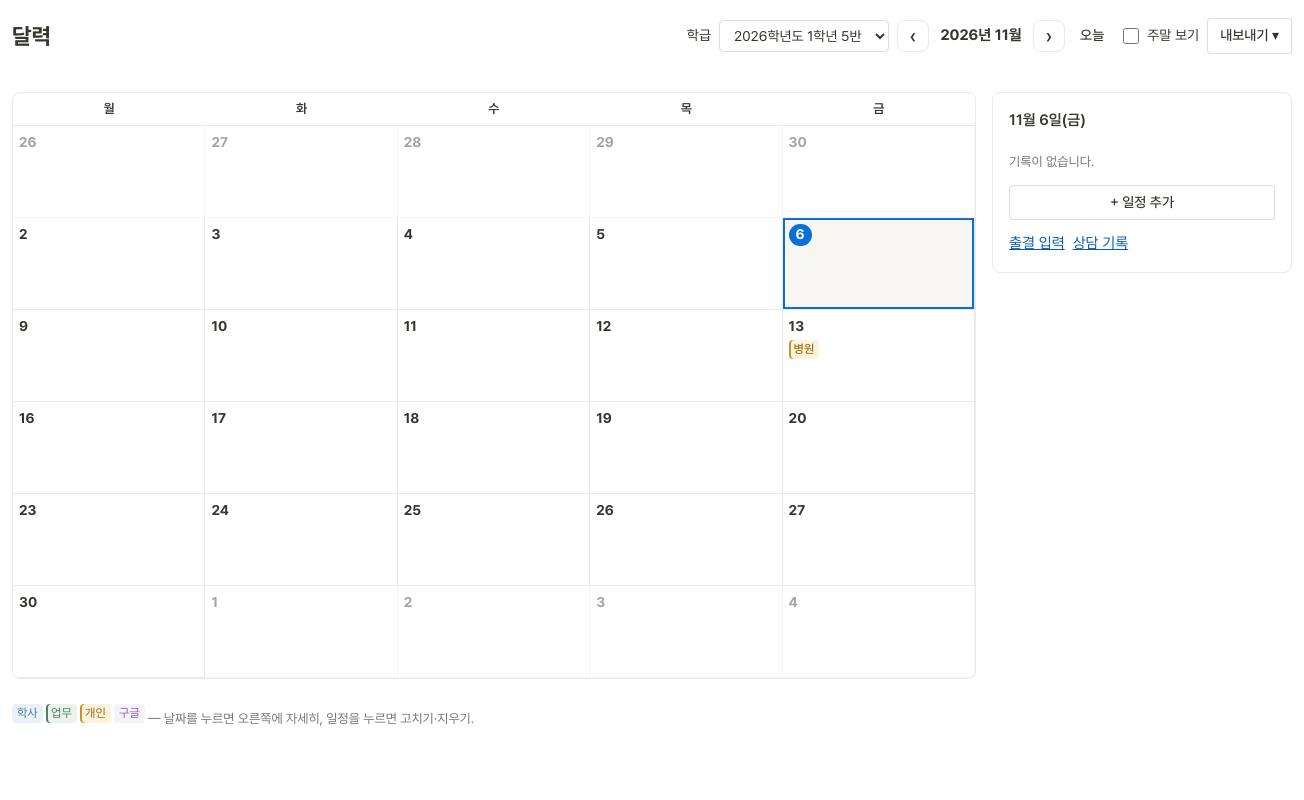
Test case: 달력에 내 일정(태그) 추가·지우기, 구글로 보낼 목록에도 들어감
Click the cell named "11월 12일" at [686, 356], box [590,310,783,402]
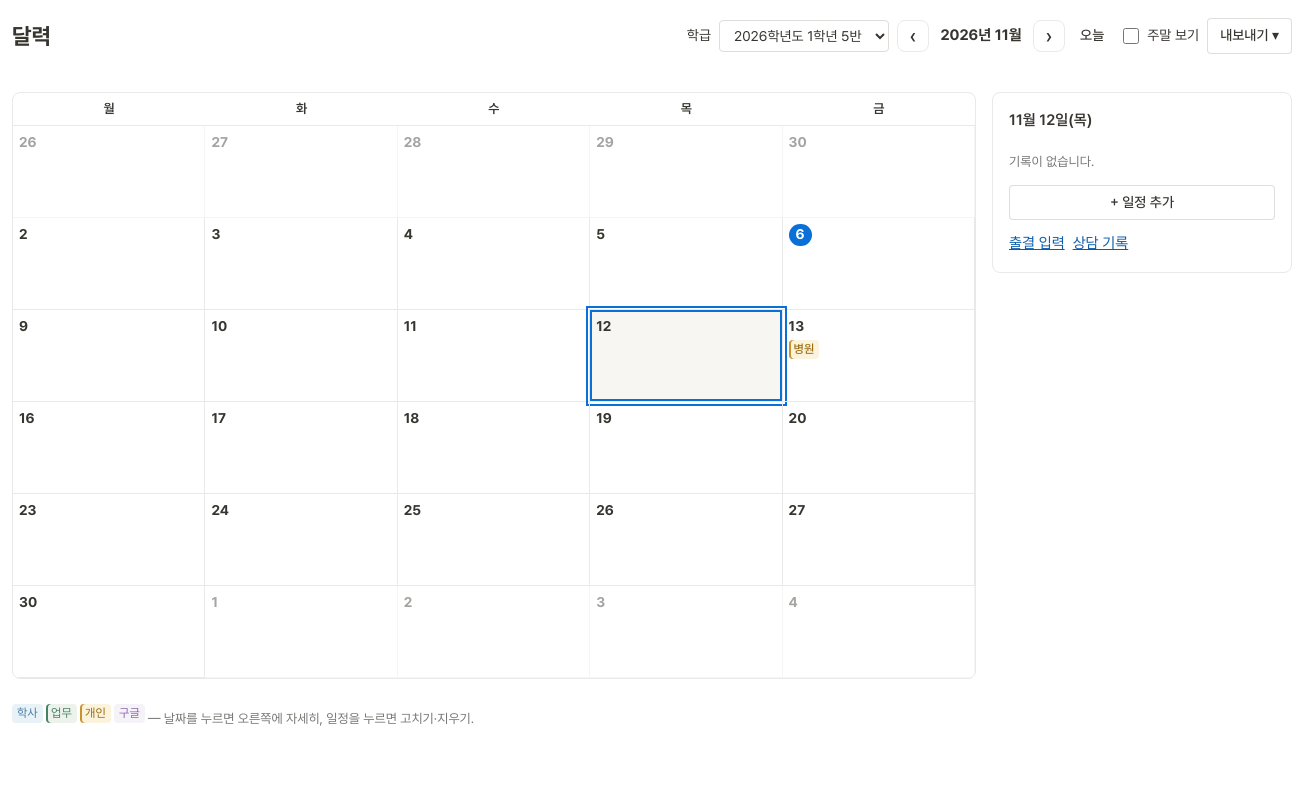
Click the button "+ 일정 추가" at [1142, 202], box [1009,185,1275,220]
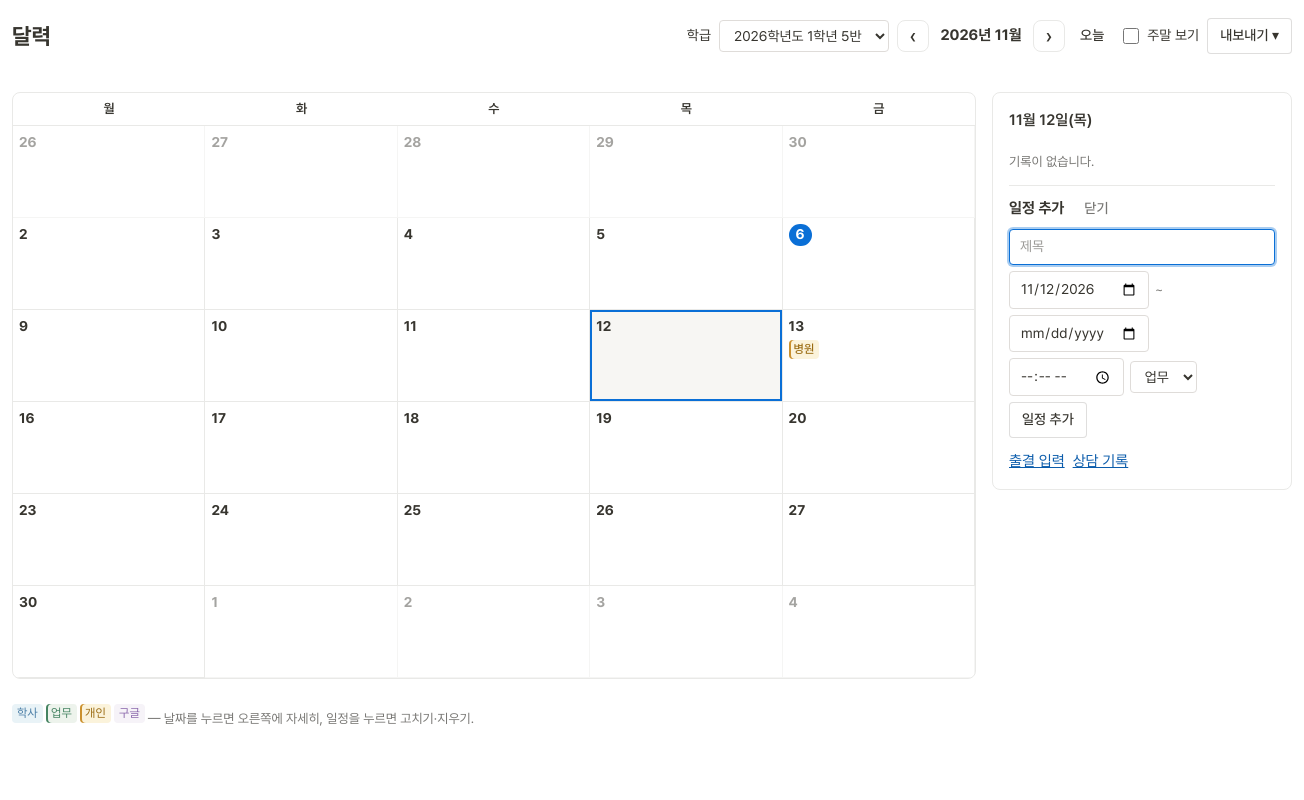
Type "학년 협의회" into the field named "일정 제목" at [1142, 247], box [1009,229,1275,265]
Type "15:30" into the time field named "시각" at [1066, 377], box [1009,358,1124,396]
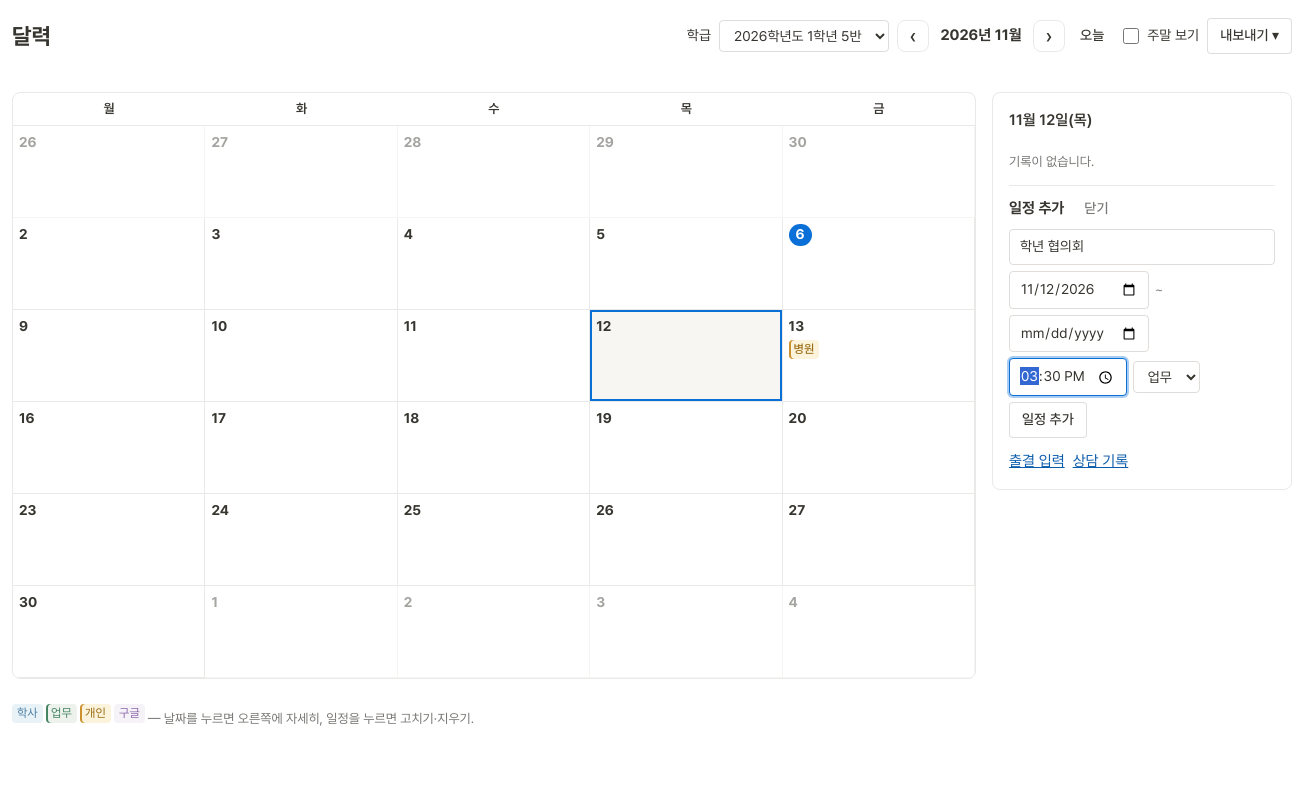
Select "업무" in the dropdown named "태그" at [1166, 377], box [1133,361,1200,393]
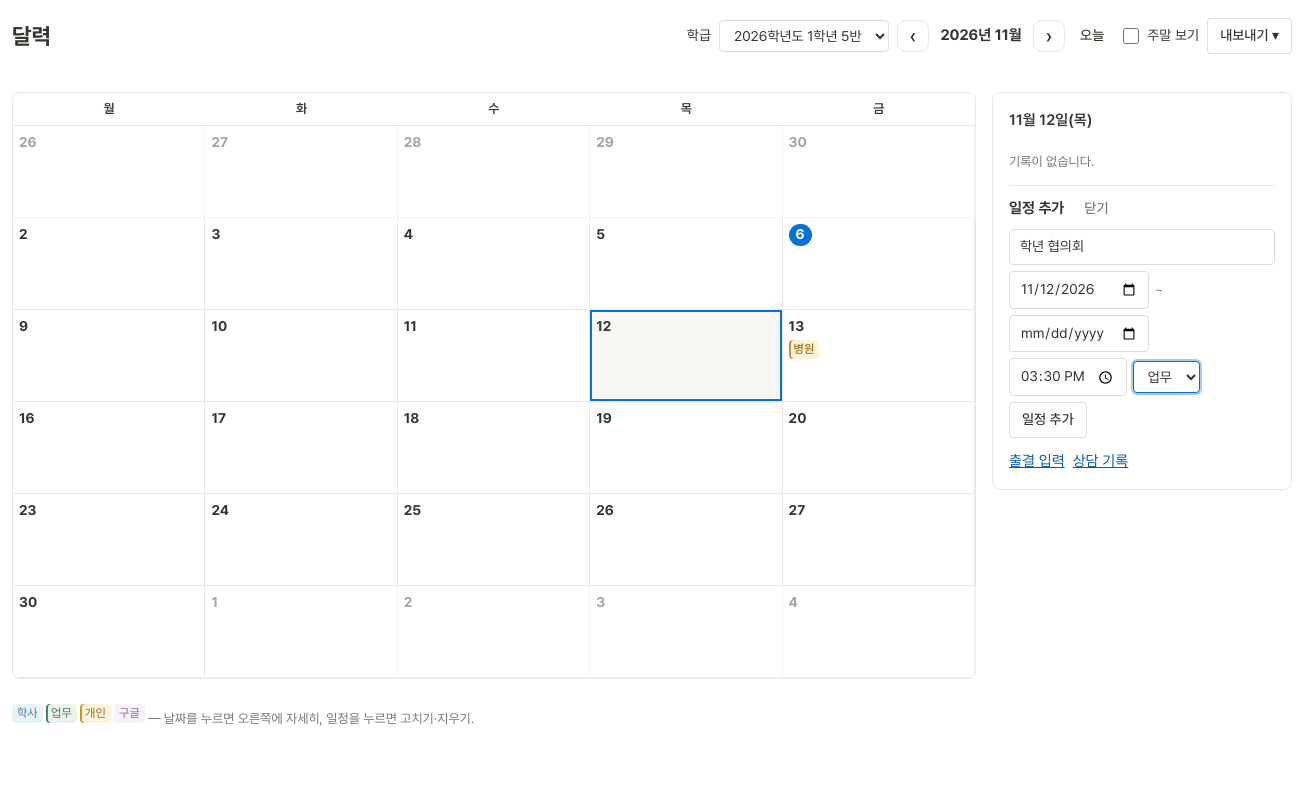
Click the button "일정 추가" at [1048, 420], box [1009,402,1087,438]
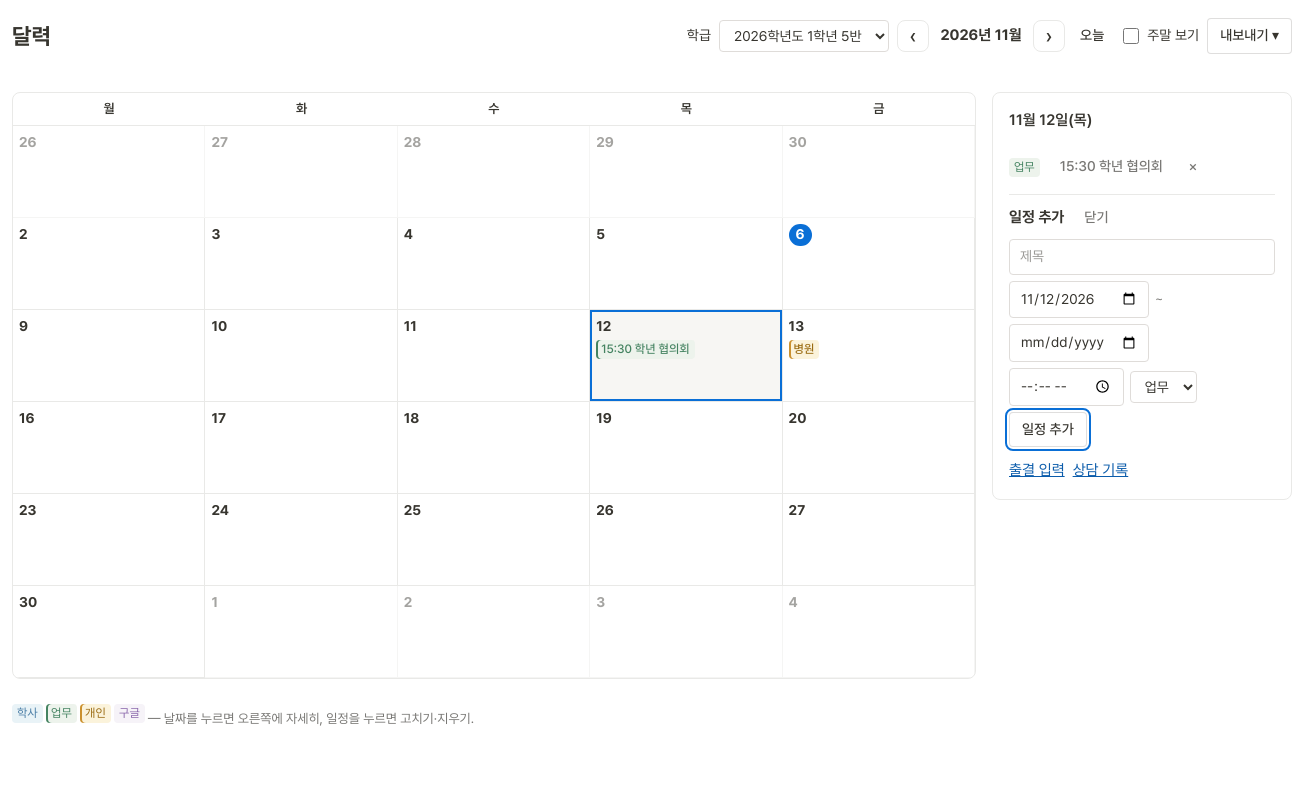
Click the button named "학년 협의회 지우기" at [1193, 167], box [1179,153,1207,181]
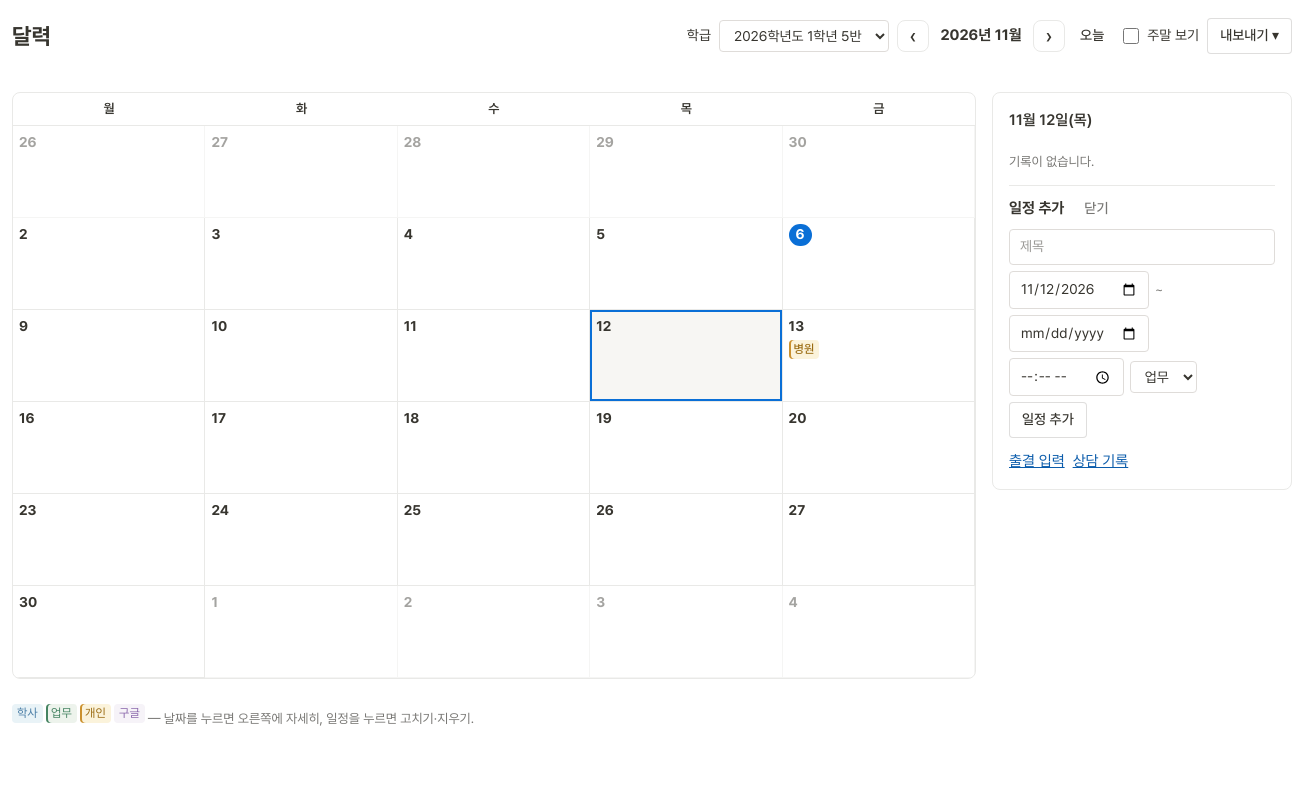
Result: the text "15:30 학년 협의회" is gone
